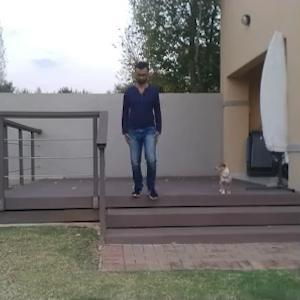follow: (121, 63, 156, 205)
